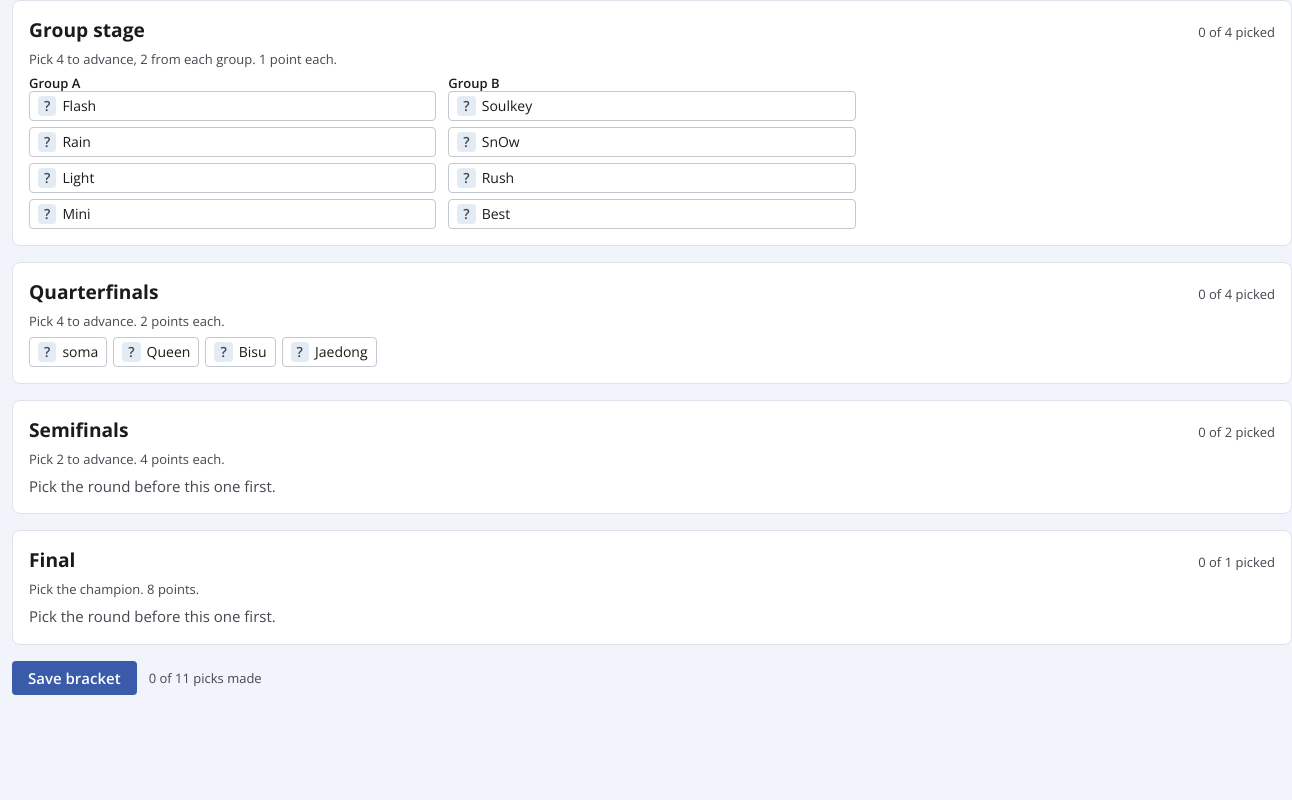
Test case: BracketEditor › lets two through per group and then closes the group
Click the button "? Flash": [79, 106] box 29,91 -> 436,121
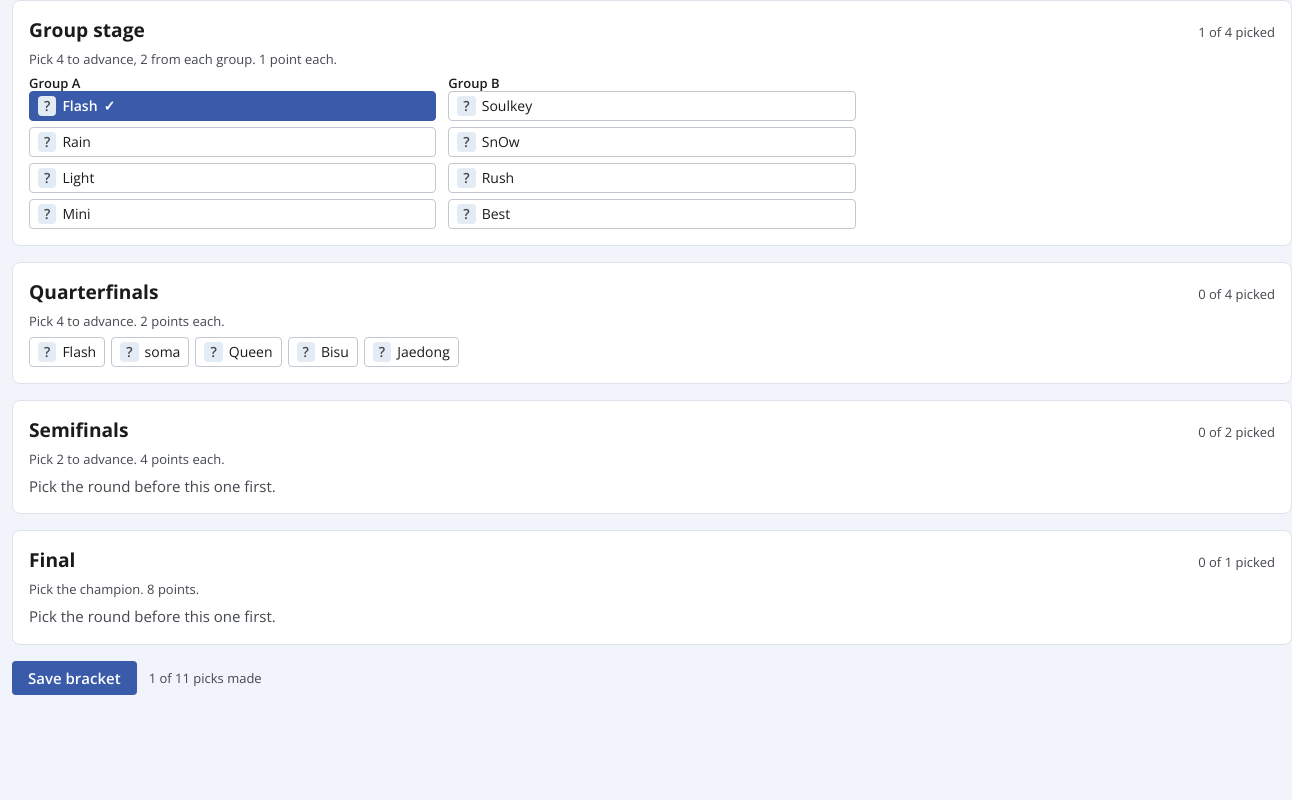
Click the button "? Rain": [47, 142] box 29,127 -> 436,157
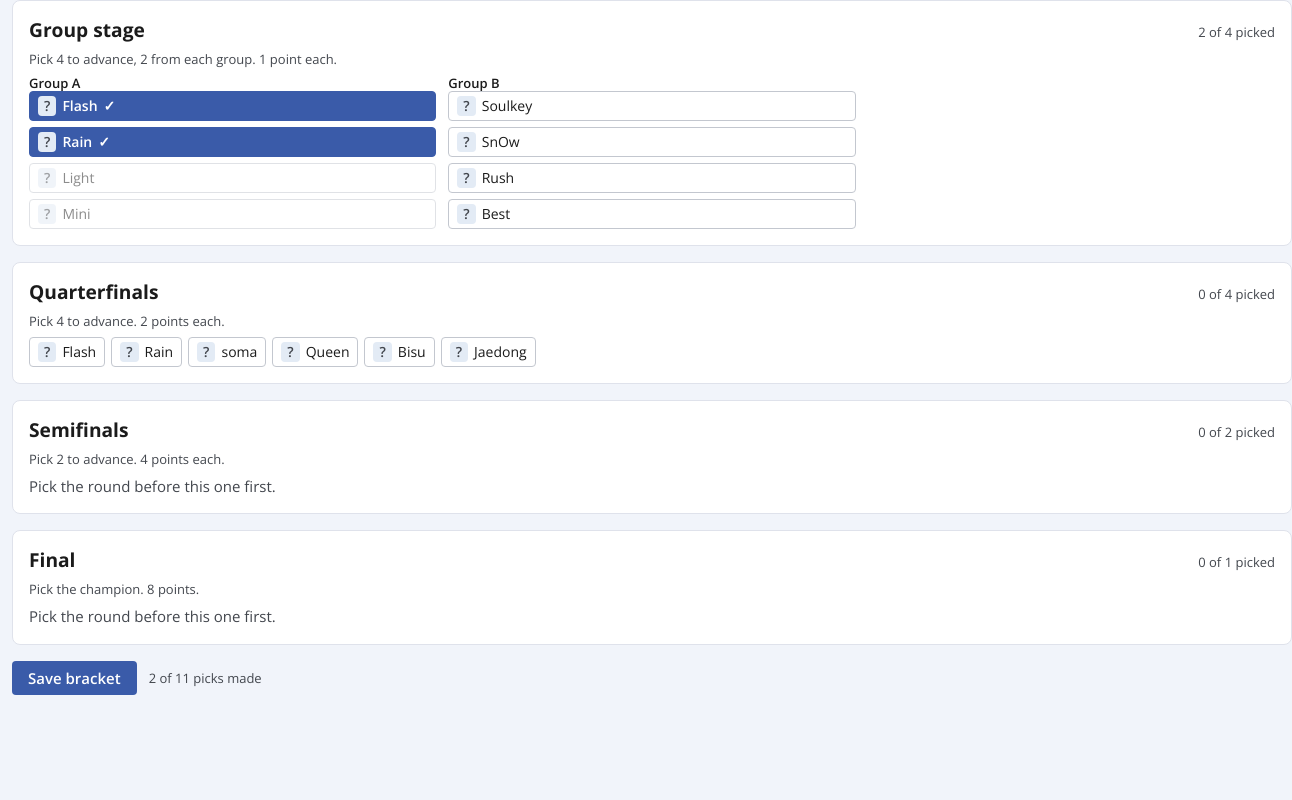
expect the button "? Soulkey" is enabled: met, box 448,91 -> 856,121
expect the button "? Light" is disabled: met, box 29,163 -> 436,193
expect the text "2 of 4 picked" is shown: met, box 1198,24 -> 1275,40
